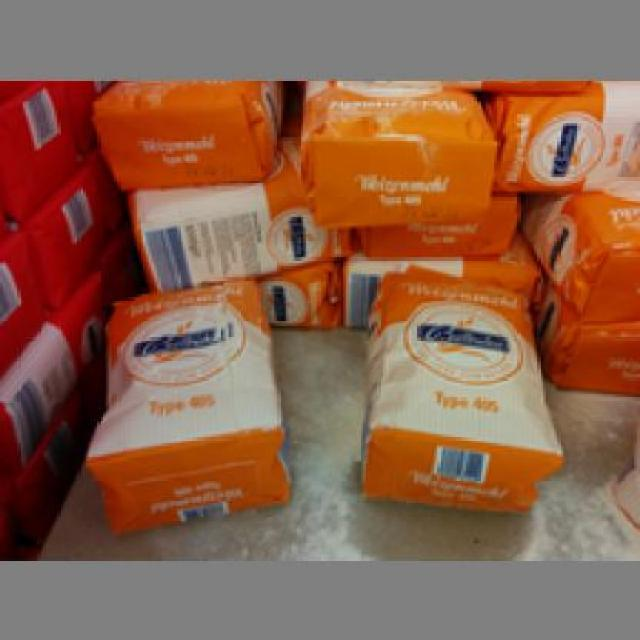Flour: (82, 268, 292, 538), (351, 262, 564, 515), (300, 77, 497, 226)
